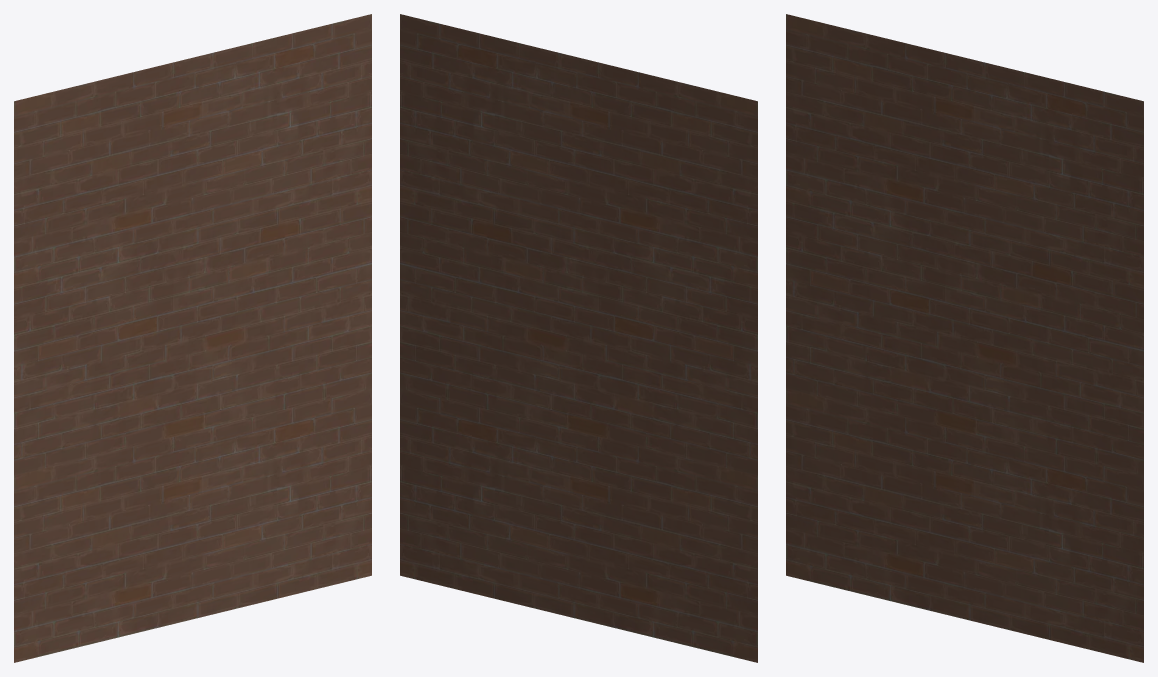
File: Brick_InteriorWall_3.glb
The picture shows the model from 3 angles, left to right: view 1: azimuth 30°, elevation 25°; view 2: azimuth 150°, elevation 25°; view 3: azimuth 330°, elevation 25°; orthographic projection.
Parts seen in each view (by area): view 1: Brick_InteriorWall_3; view 2: Brick_InteriorWall_3; view 3: Brick_InteriorWall_3.
Boxes of the visible parts, x1,y1,x2,y2 form: Brick_InteriorWall_3: [14, 14, 371, 662]; Brick_InteriorWall_3: [400, 14, 757, 662]; Brick_InteriorWall_3: [786, 14, 1143, 662].
Size of the model in its own units: 2 by 3 by 0.
1 material, 1 textured.
